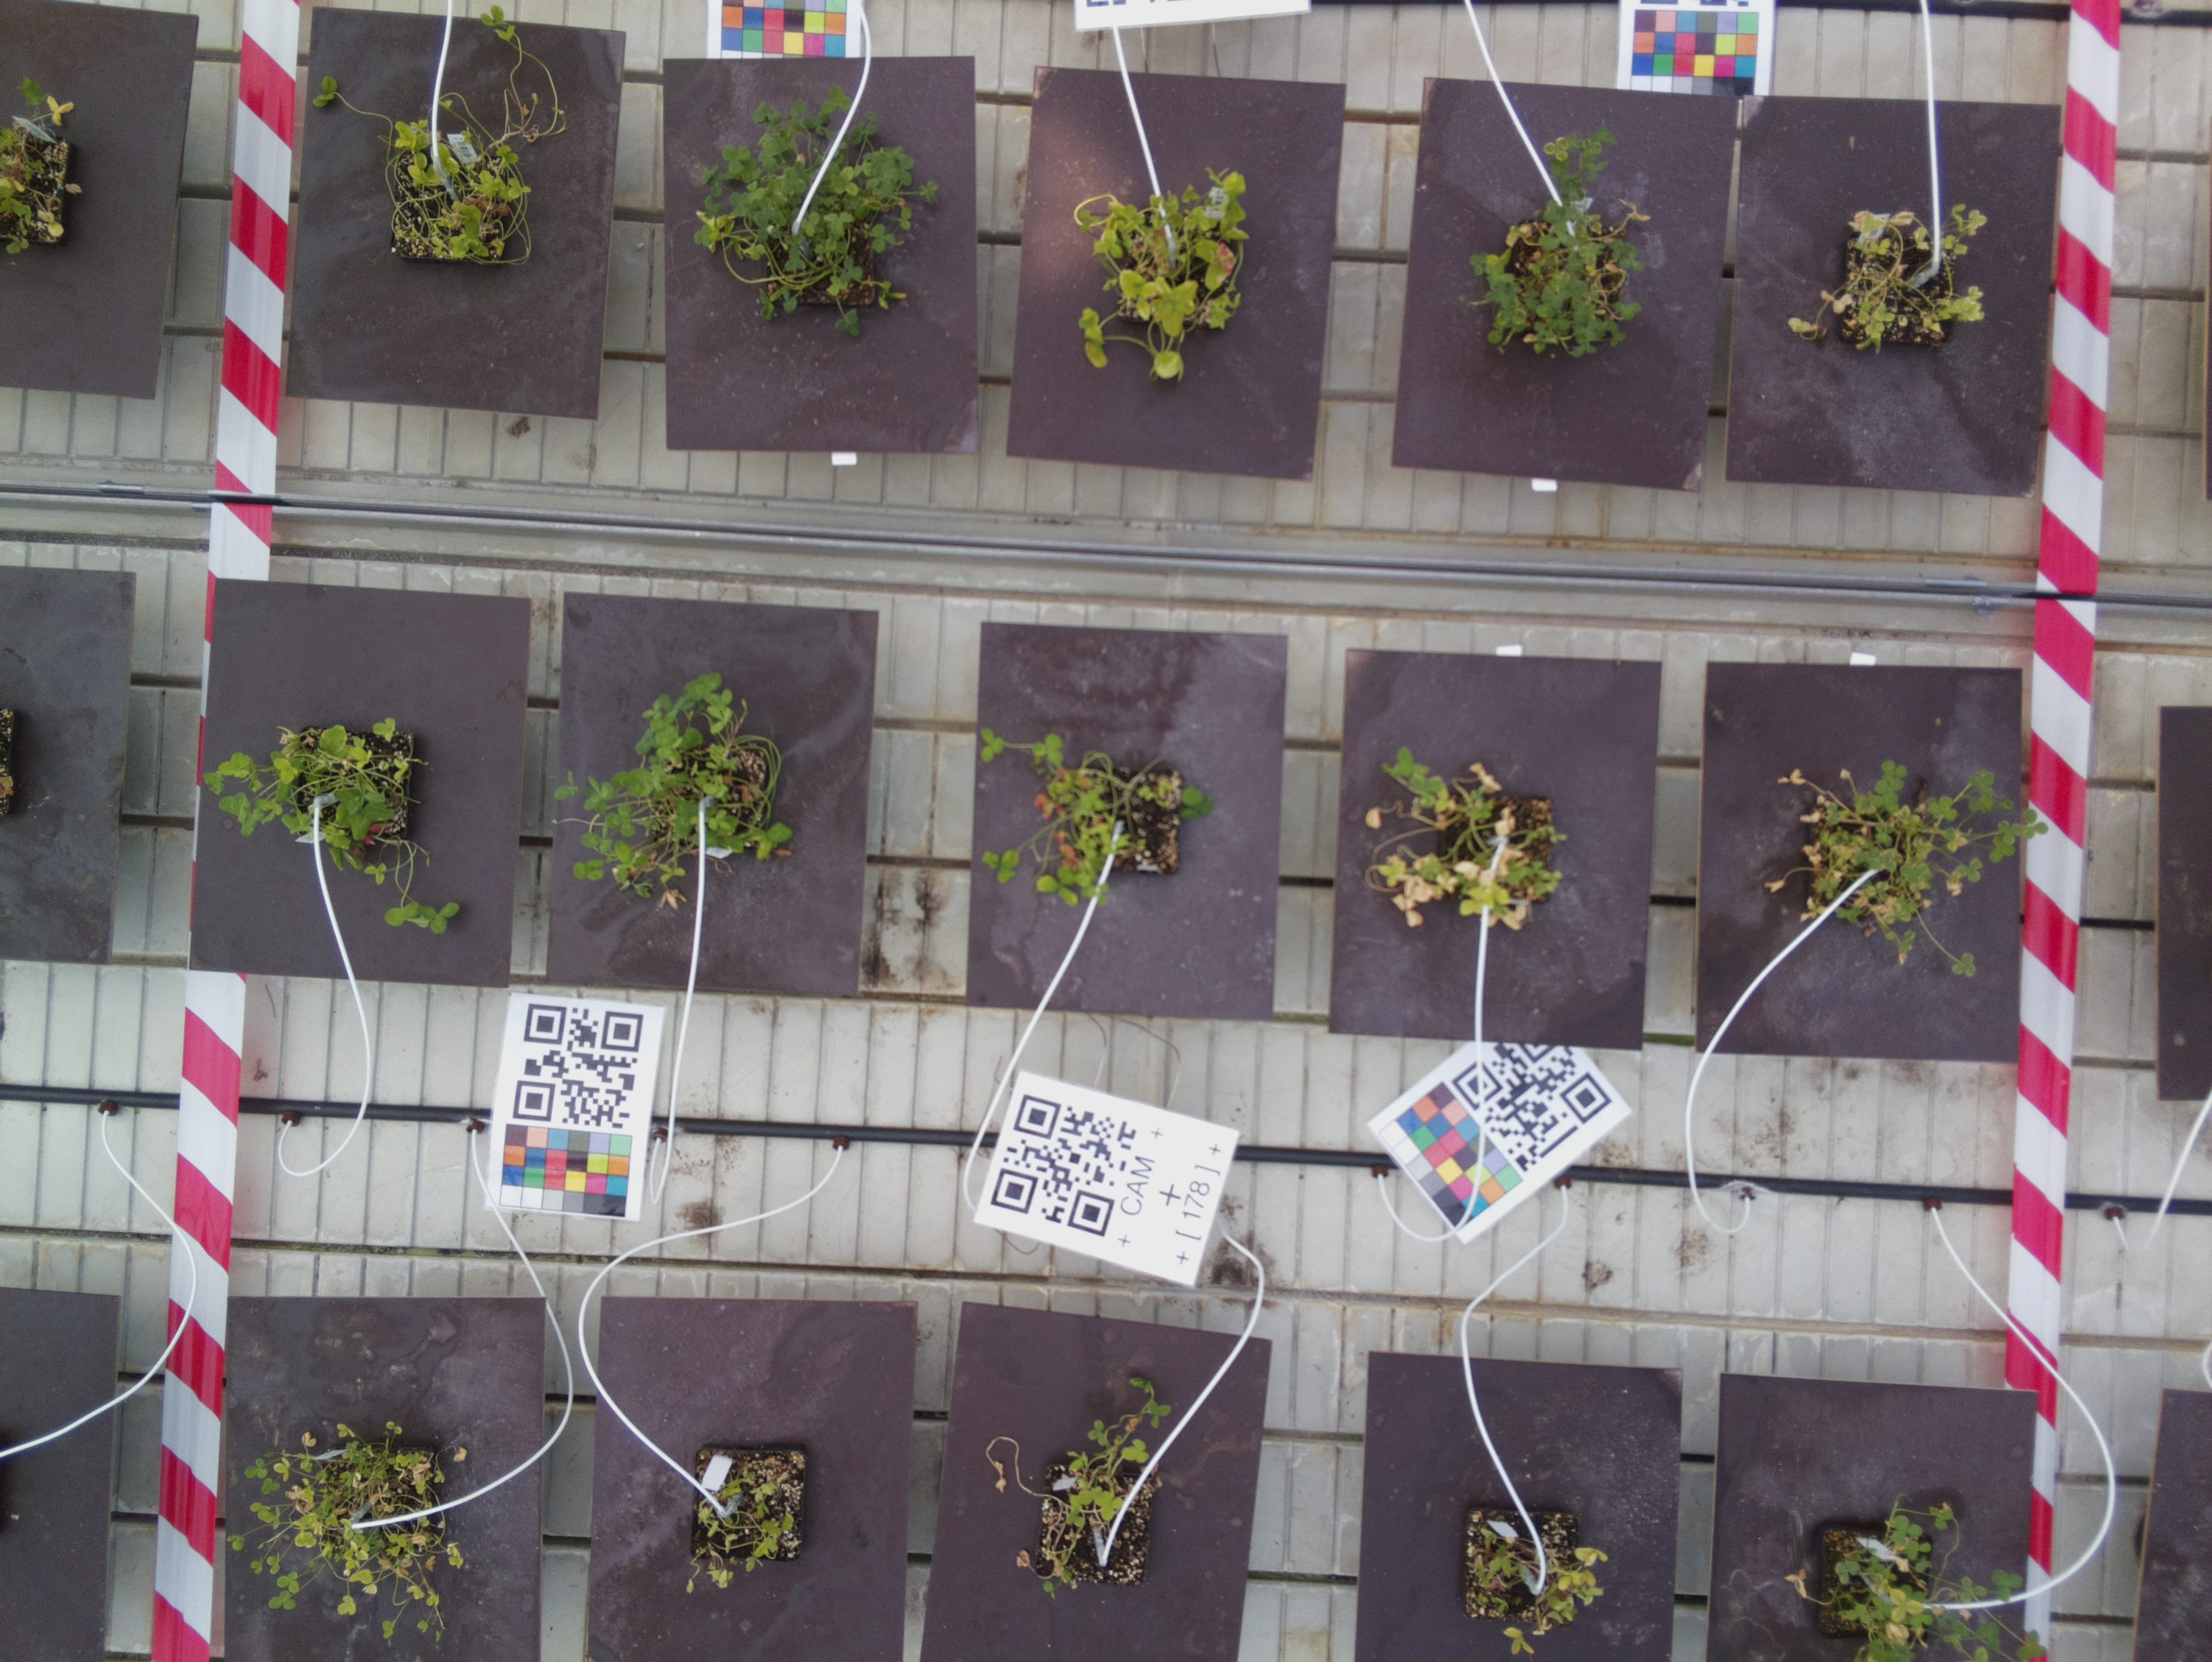POT: (180, 585, 536, 967), (553, 590, 876, 995), (1706, 658, 2029, 1063), (1343, 646, 1650, 1046), (978, 620, 1273, 1021), (223, 1301, 543, 1662), (599, 1295, 904, 1662), (960, 1308, 1252, 1662), (1364, 1351, 1685, 1662), (1716, 1369, 2037, 1662)
QRCODE: (974, 1070, 1243, 1290)
QRCOLOR: (1372, 1056, 1620, 1243), (484, 992, 667, 1220)
